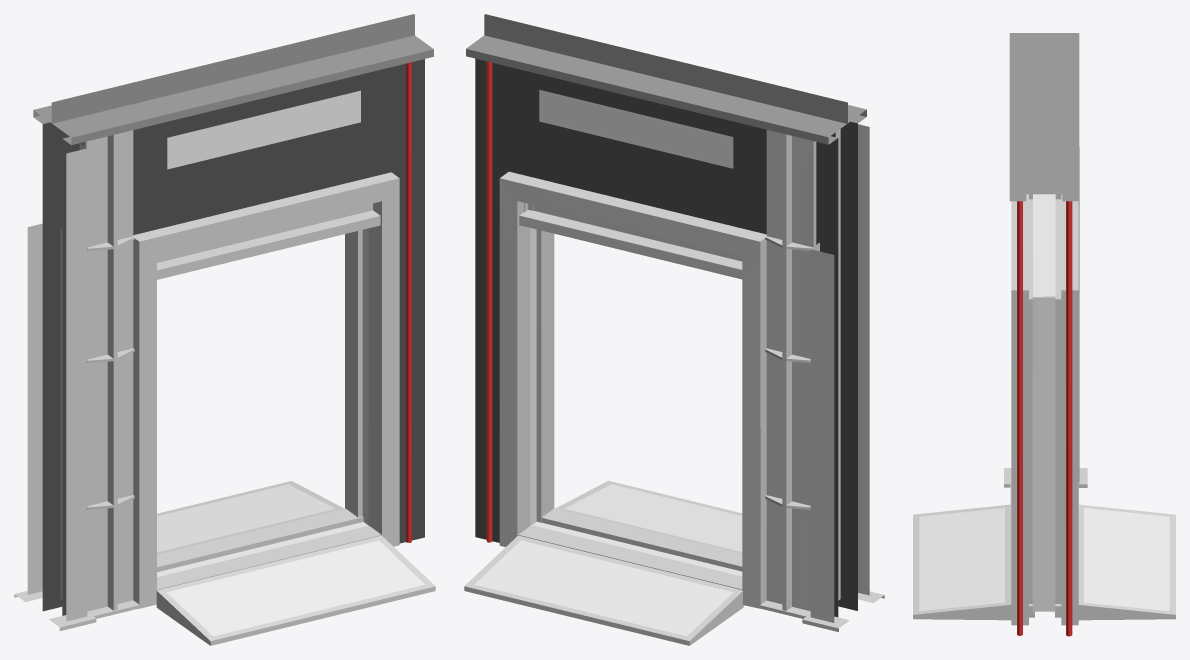
The model's file is SM_H_Building_Tide_DeepJail_10e_ATLAS.fbx.
3 views of the same model, side by side, from view 1: azimuth 30°, elevation 25°; view 2: azimuth 150°, elevation 25°; view 3: azimuth 270°, elevation 25° (orthographic). The views are drawn at different scales.
Parts seen in each view (by area): view 1: SM_H_Building_Tide_DeepJail_10e_ATLAS; view 2: SM_H_Building_Tide_DeepJail_10e_ATLAS; view 3: SM_H_Building_Tide_DeepJail_10e_ATLAS.
Part boxes in pixels (x1,y1,x2,y2): SM_H_Building_Tide_DeepJail_10e_ATLAS: [14, 14, 435, 645]; SM_H_Building_Tide_DeepJail_10e_ATLAS: [464, 14, 884, 645]; SM_H_Building_Tide_DeepJail_10e_ATLAS: [913, 33, 1175, 636].
Size of the model in its own units: 319 by 211 by 417.
